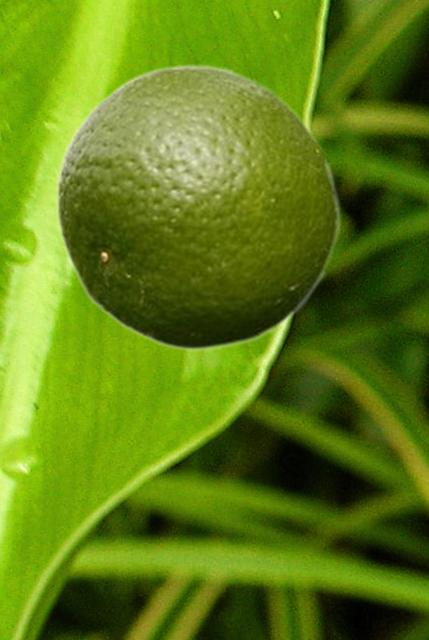calamansi: (55, 61, 340, 351)
